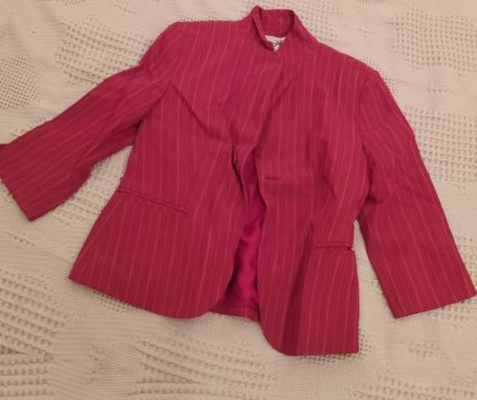Blazer: (0, 0, 477, 367), (0, 0, 15, 287), (0, 398, 417, 400)
